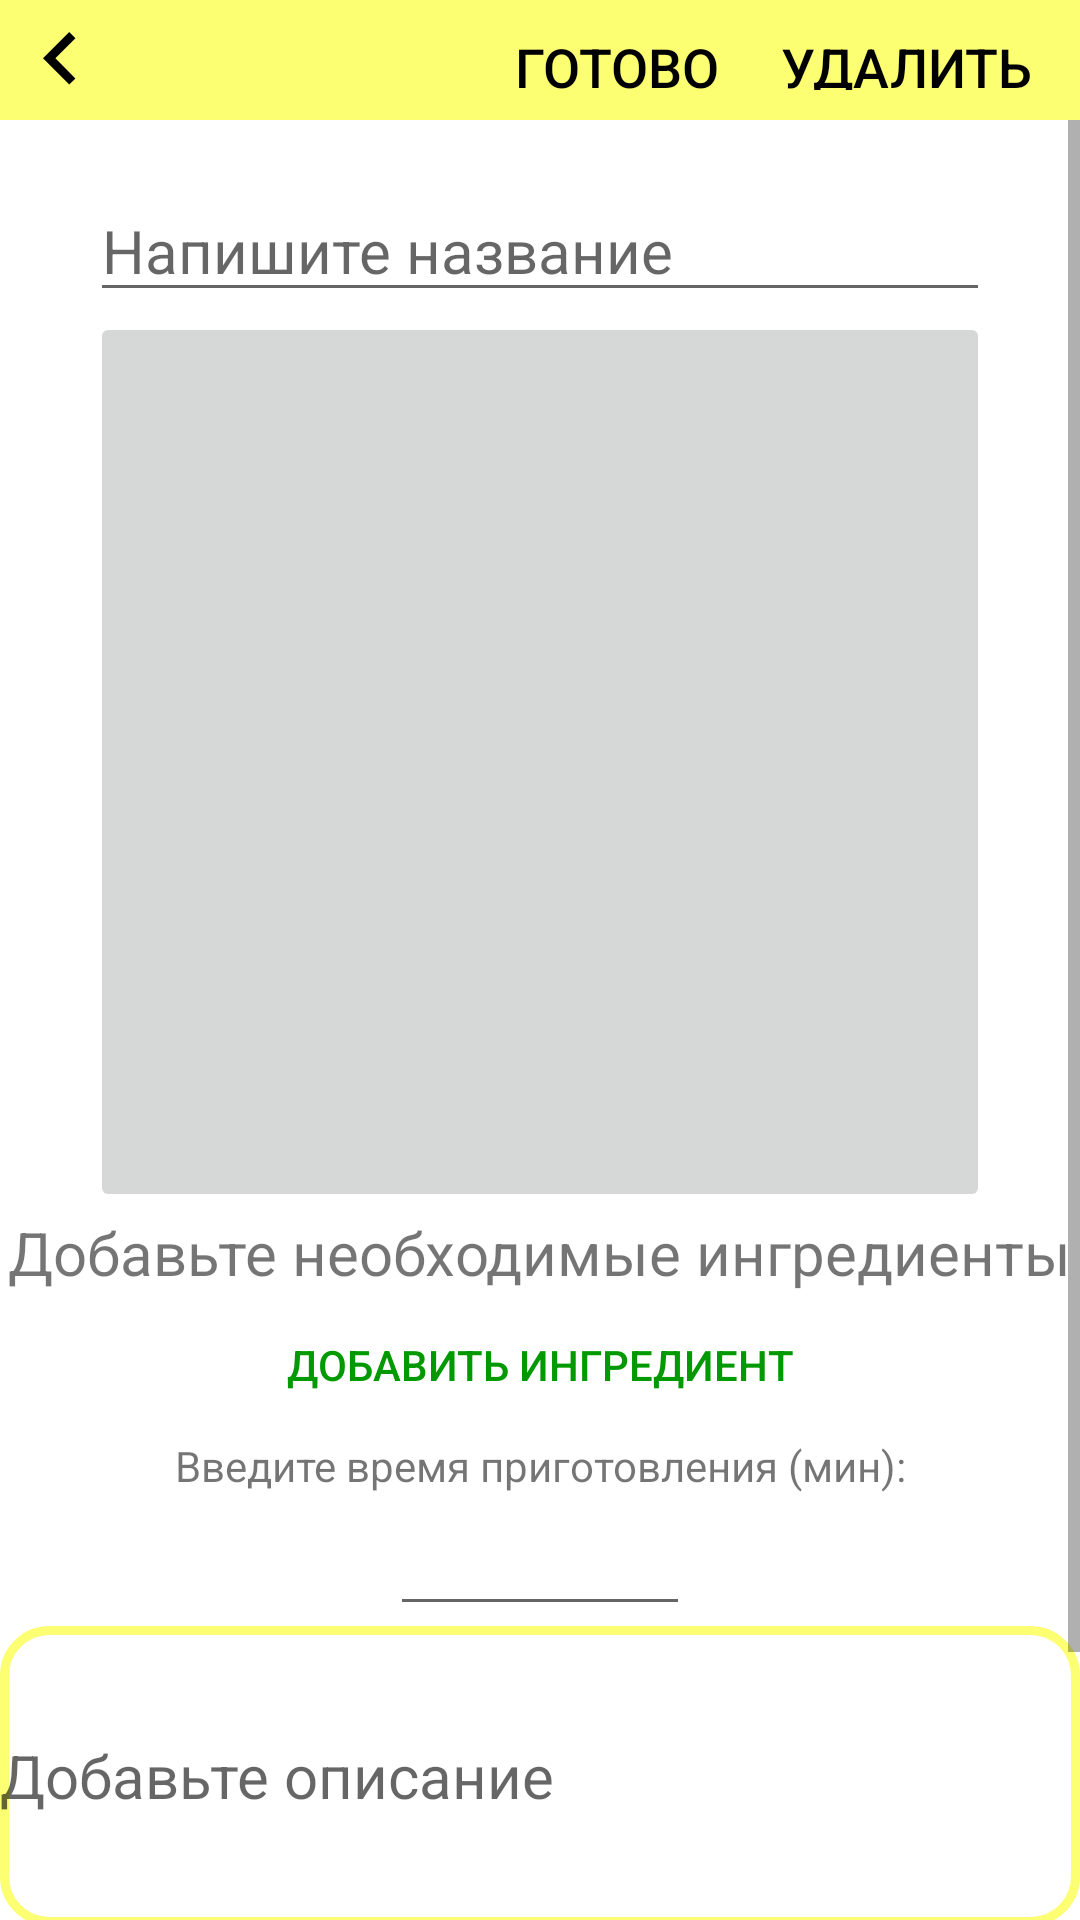

Icon click points for this 1080px×1920px phone screenshot, format [x,y]:
arrow left: [59,58]
